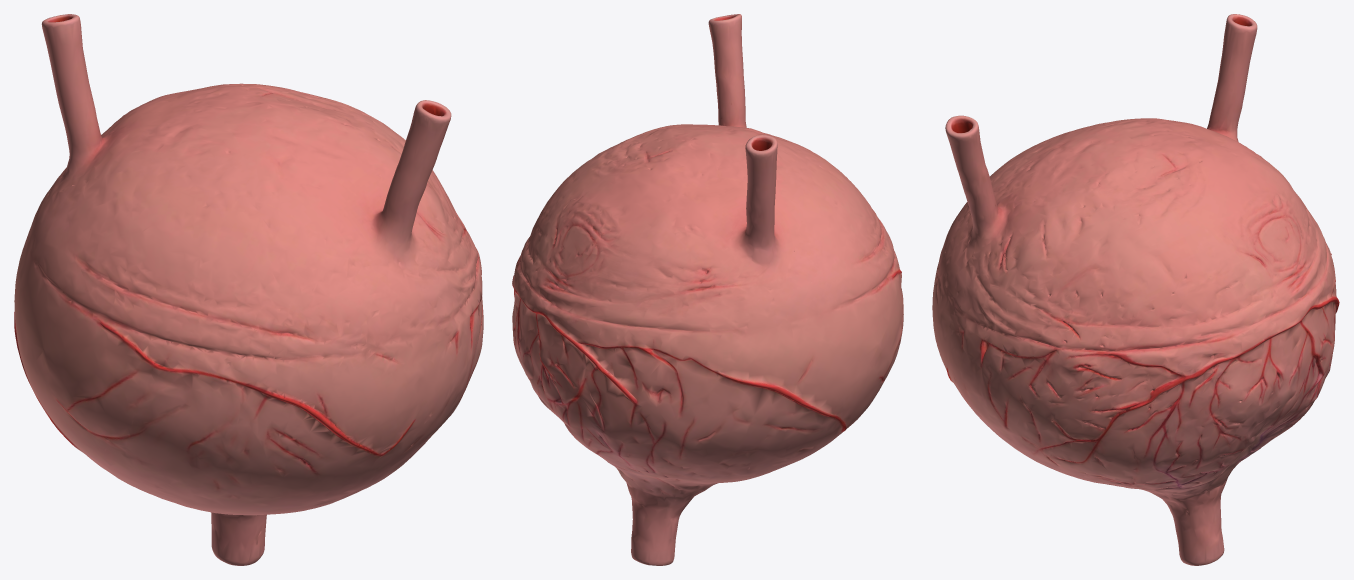
Rendered from bladder.glb.
3 renders of one model, left to right at view 1: azimuth 30°, elevation 25°; view 2: azimuth 150°, elevation 25°; view 3: azimuth 270°, elevation 25°, orthographic. The views are drawn at different scales.
Visible parts, largest first — view 1: tripo_node_65053a51-d0e2-48c0-b995-6215805075c0; view 2: tripo_node_65053a51-d0e2-48c0-b995-6215805075c0; view 3: tripo_node_65053a51-d0e2-48c0-b995-6215805075c0.
Boxes of the visible parts, x1=… form: tripo_node_65053a51-d0e2-48c0-b995-6215805075c0: x1=14, y1=14, x2=483, y2=565; tripo_node_65053a51-d0e2-48c0-b995-6215805075c0: x1=512, y1=14, x2=903, y2=565; tripo_node_65053a51-d0e2-48c0-b995-6215805075c0: x1=932, y1=14, x2=1339, y2=565.
Bounding box in the file's own units: 0.7606 × 0.9996 × 0.7705.
Materials: 1 (1 with a texture image).
